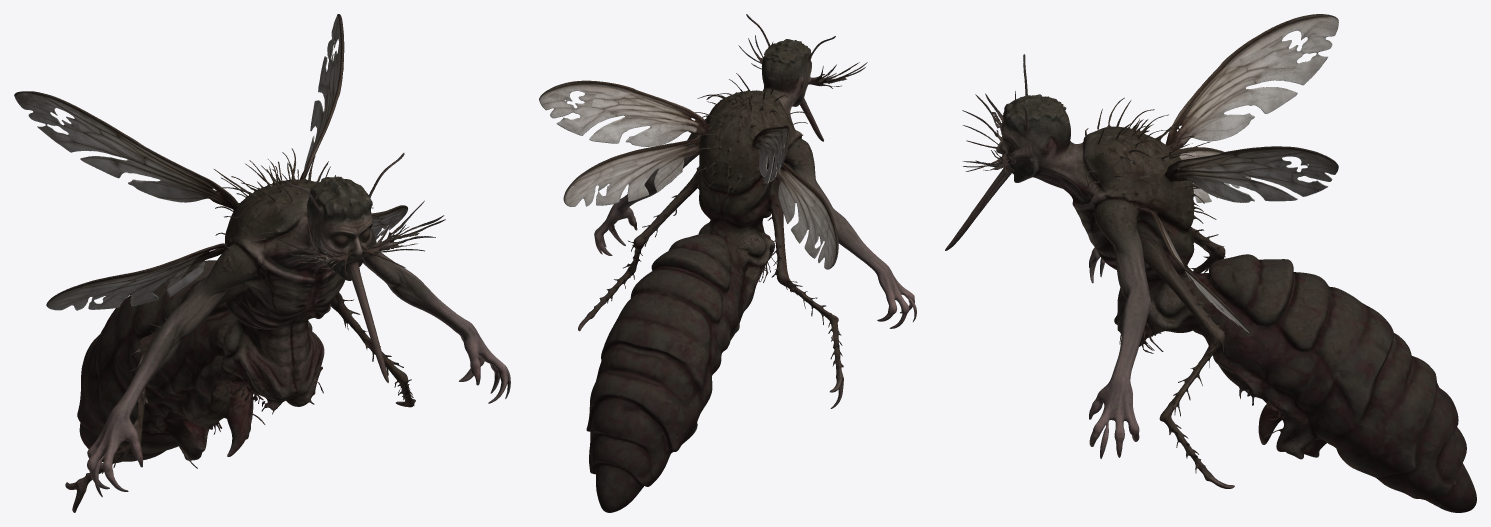
Rendered from pastor_3.glb.
3 renders of one model, left to right at view 1: azimuth 30°, elevation 25°; view 2: azimuth 150°, elevation 25°; view 3: azimuth 270°, elevation 25°, orthographic. The views are drawn at different scales.
Bounding box in the file's own units: 1.58 × 1.7 × 1.9.
Materials: 1 (1 with a texture image).
